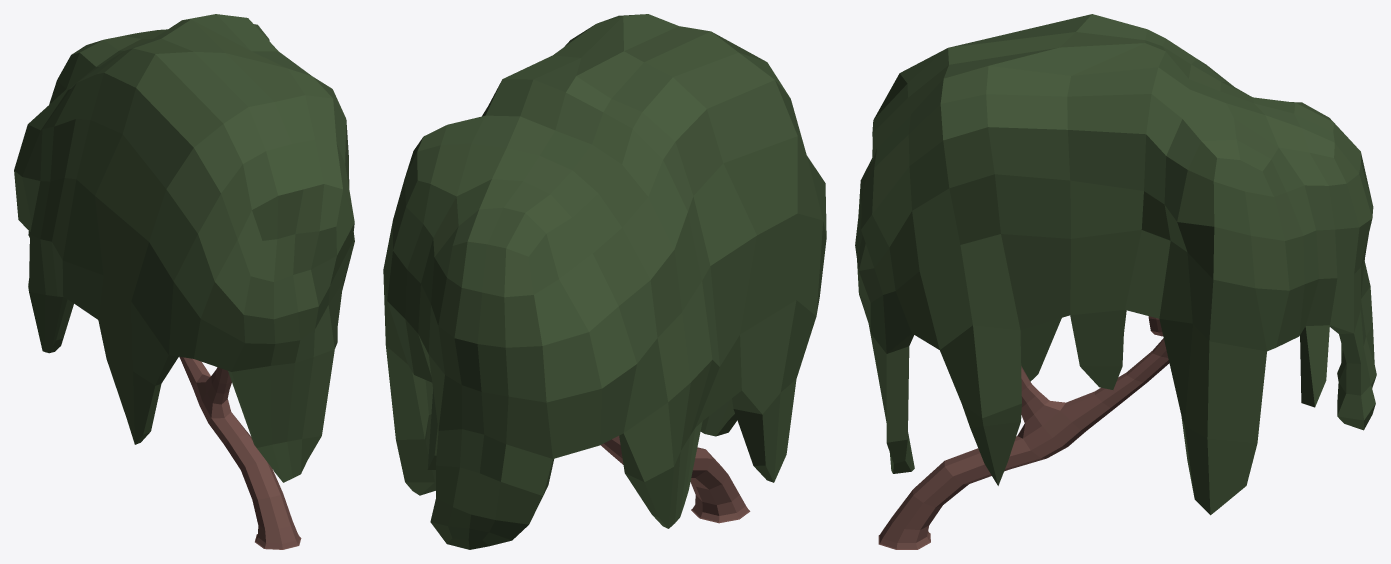
The model's file is Willow_2-optimized.glb.
3 renders of one model, left to right at view 1: azimuth 30°, elevation 25°; view 2: azimuth 150°, elevation 25°; view 3: azimuth 270°, elevation 25°, orthographic. The views are drawn at different scales.
Visible parts, largest first — view 1: Willow_2; view 2: Willow_2; view 3: Willow_2.
Boxes of the visible parts, box(x1,y1,x2,y2) form: Willow_2: box(14, 14, 354, 549); Willow_2: box(383, 14, 826, 549); Willow_2: box(855, 14, 1376, 549).
Size of the model in its own units: 3.01 by 5.11 by 4.78.
